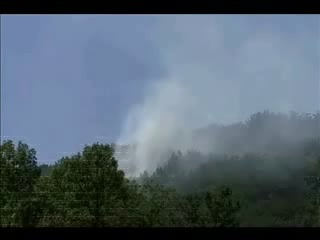smoke: (149, 13, 314, 170), (108, 113, 192, 188)
